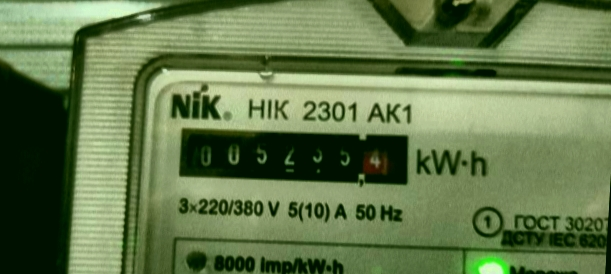0: (196, 141, 213, 167), (224, 141, 241, 166)
2: (279, 140, 297, 167)
3: (307, 138, 325, 164)
4: (364, 142, 384, 172)
5: (334, 139, 352, 168), (252, 139, 268, 165)
screen: (164, 112, 418, 197)
